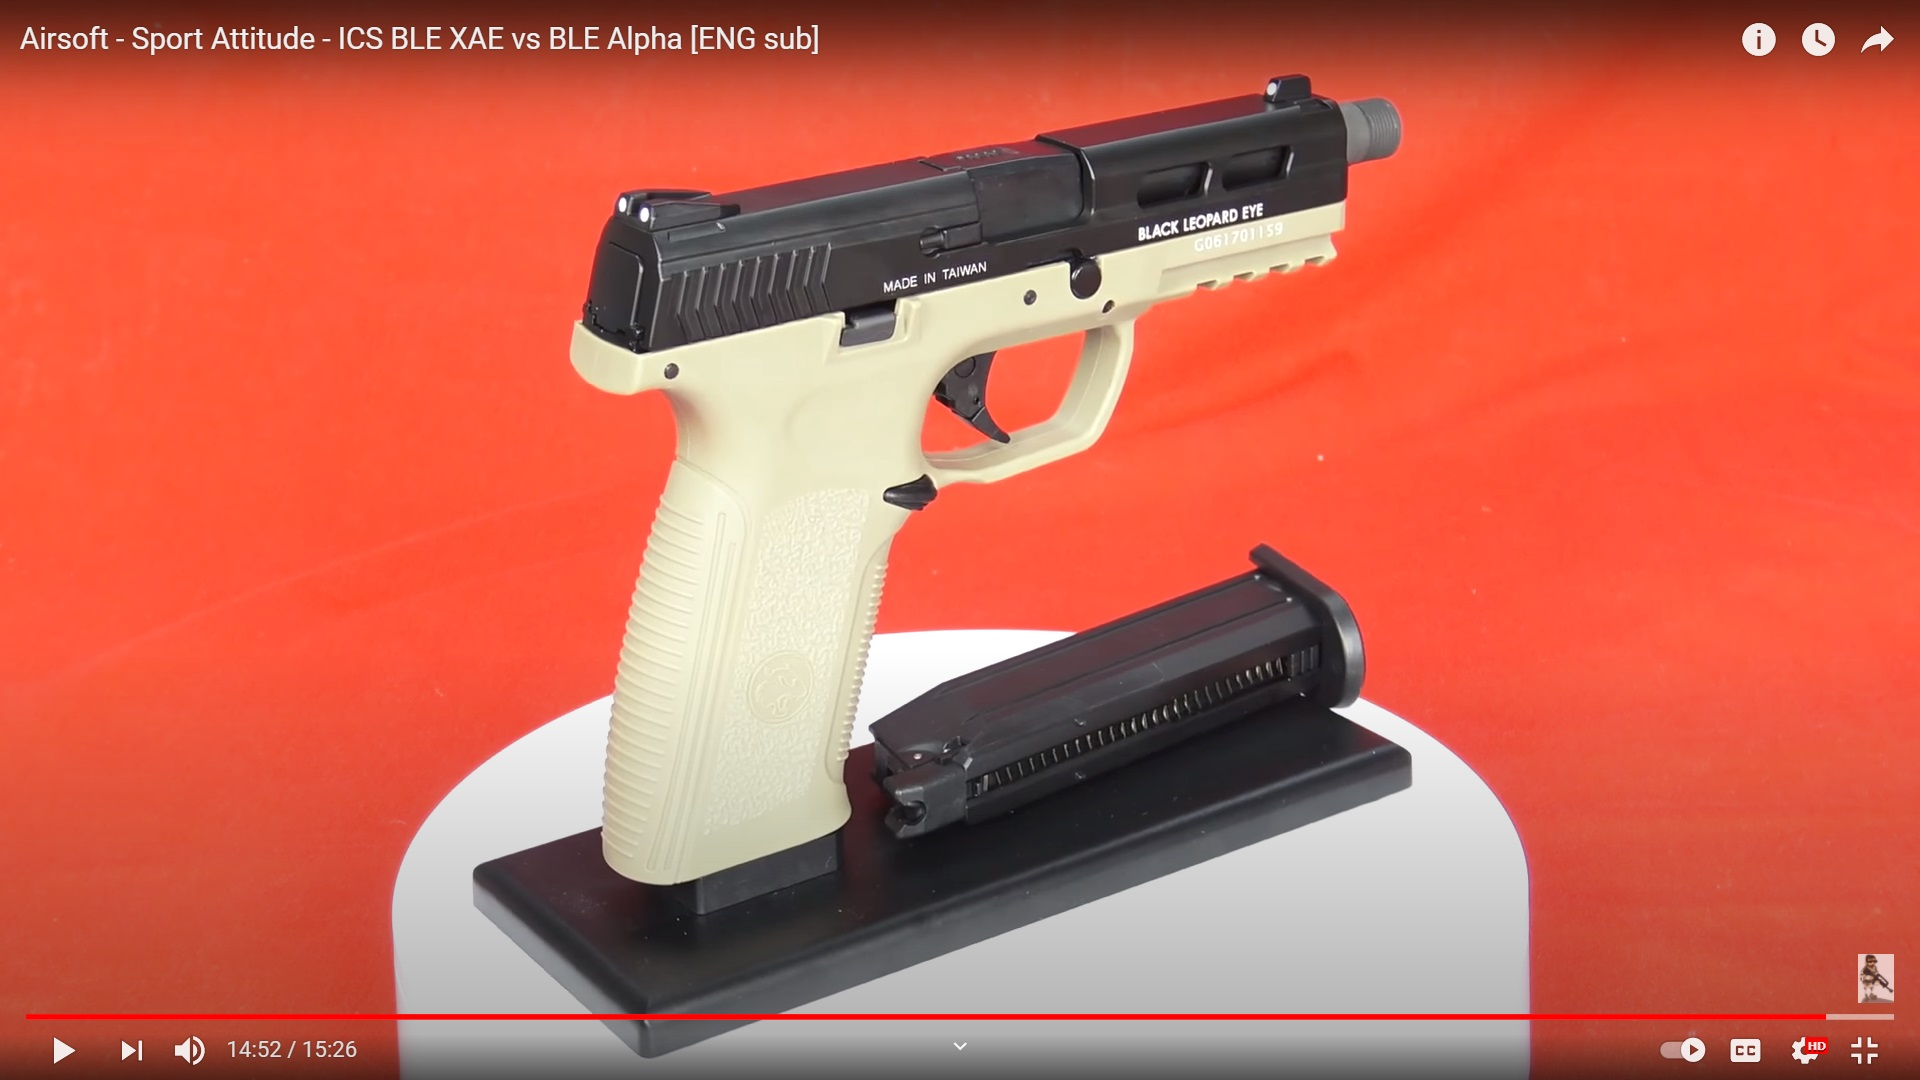asg_ics_ble_xae: (558, 73, 1406, 916)
